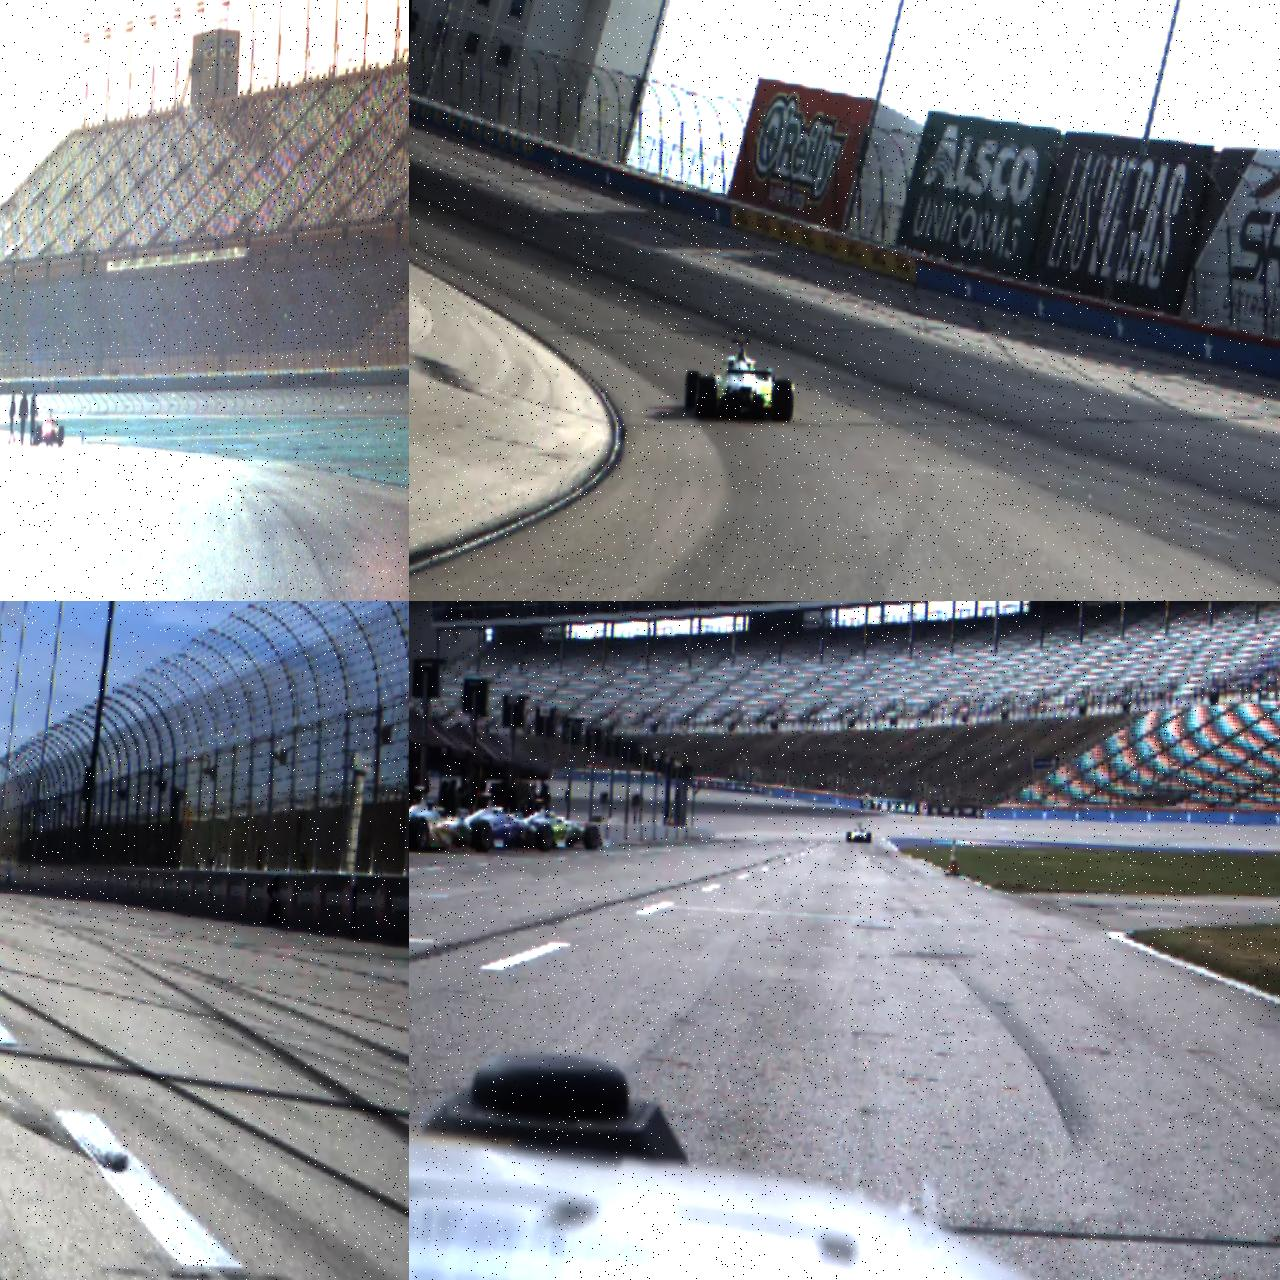AV: (682, 336, 796, 425), (409, 781, 495, 856), (35, 407, 64, 445), (845, 822, 872, 844)
Wheel: (694, 375, 717, 421), (771, 379, 794, 423), (470, 821, 493, 853), (409, 815, 429, 852), (683, 369, 700, 409), (535, 824, 554, 851), (583, 824, 600, 850), (57, 425, 64, 445), (35, 425, 41, 443), (845, 831, 851, 842), (866, 831, 871, 843)
